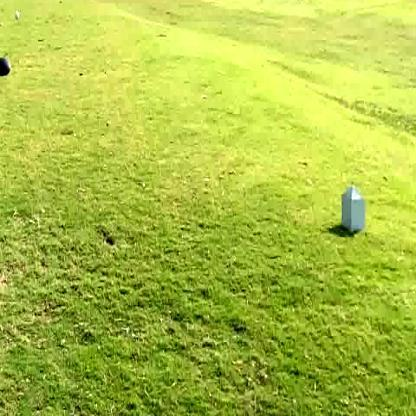ClubHead: (14, 10, 20, 21)
GolfBall: (0, 56, 11, 79)
